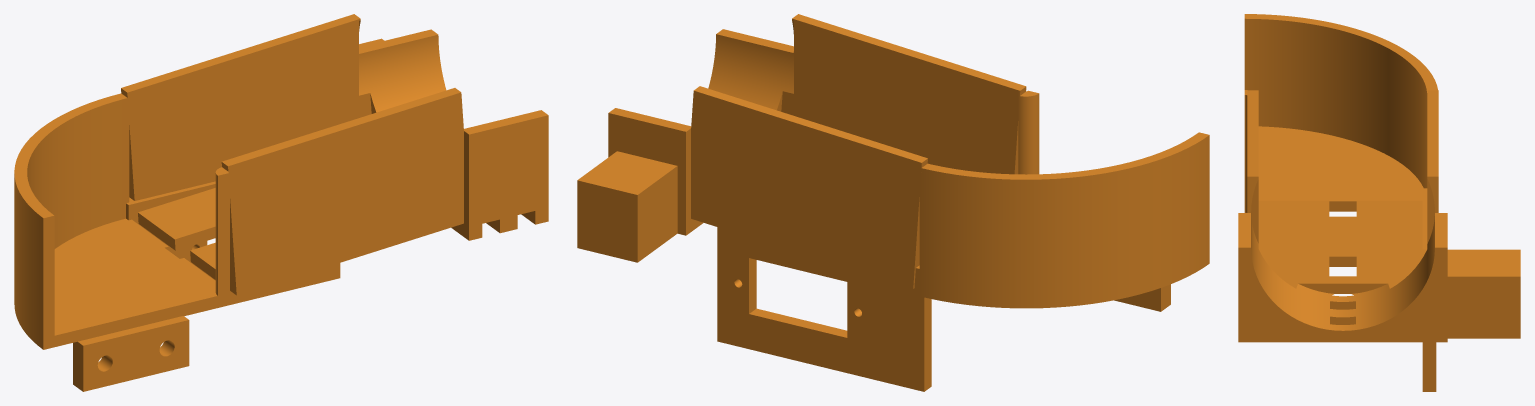
File: mag_saida.glb
3 views of the same model, side by side, from view 1: azimuth 30°, elevation 25°; view 2: azimuth 150°, elevation 25°; view 3: azimuth 270°, elevation 25° (orthographic). The views are drawn at different scales.
Visible parts, largest first — view 1: mag_saida; view 2: mag_saida; view 3: mag_saida.
Part boxes in pixels (left/top/right/bottom): mag_saida: left=14, top=14, right=548, bottom=391; mag_saida: left=577, top=14, right=1209, bottom=391; mag_saida: left=1238, top=14, right=1520, bottom=391.
Size of the model in its own units: 114 by 54.56 by 62.
